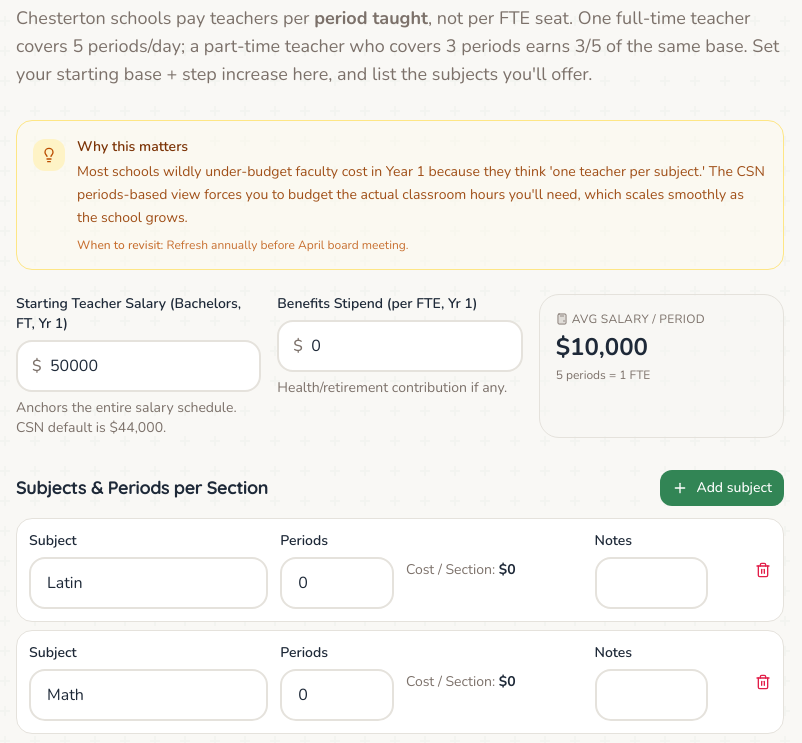
Test: Chesterton wizard step summaries › staffing step updates periods total / FTE / annual payroll live as the user types
Replace the text in the 1st number field labelled "Periods" with "5". click: [337, 583]
box: top-left (280, 557), bottom-right (394, 609)
(page scrolled)
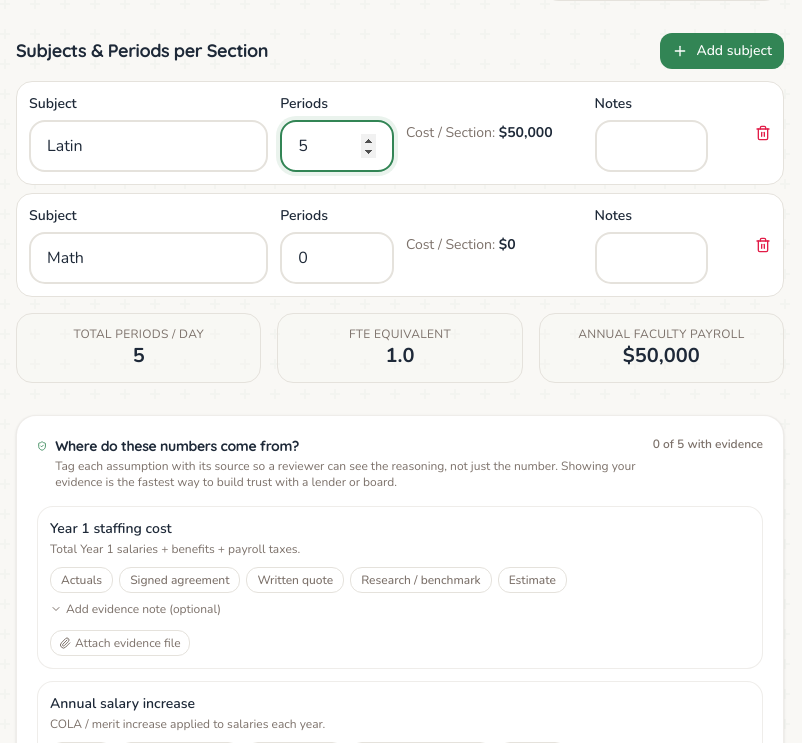
Expected: the text with test id "chesterton-staffing-periods-total" reads "5", top-left (133, 342), bottom-right (145, 369)
Expected: the text with test id "chesterton-staffing-fte-equivalent" reads "1.0", top-left (386, 342), bottom-right (414, 369)
Expected: the text with test id "chesterton-staffing-annual-payroll" reads "$50,000", top-left (623, 342), bottom-right (700, 369)
